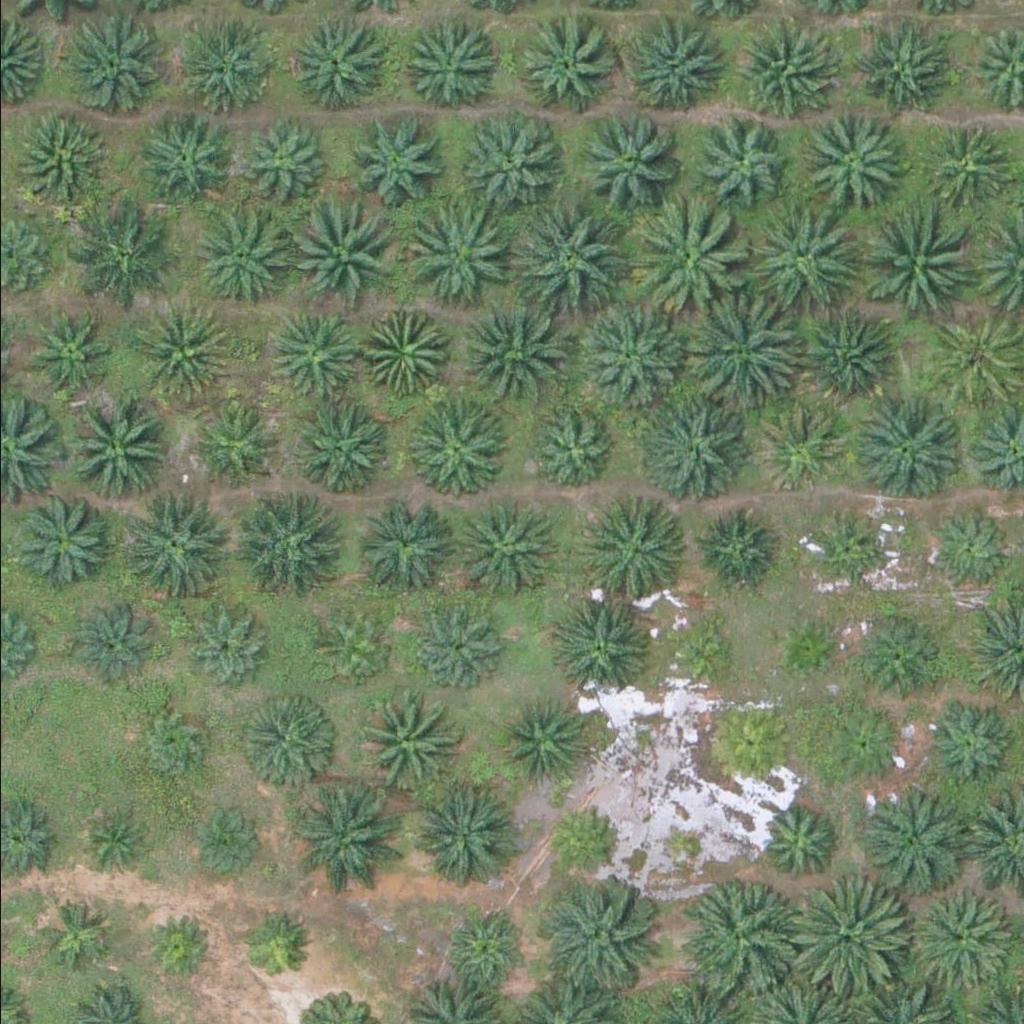Kelapa_Sawit: (742, 198, 856, 311), (71, 203, 184, 316), (396, 203, 509, 316), (512, 202, 625, 315), (686, 884, 799, 997), (538, 881, 651, 994), (574, 303, 688, 415), (57, 398, 171, 510), (796, 879, 910, 991), (867, 209, 981, 321), (182, 202, 295, 314), (292, 197, 405, 309), (629, 200, 742, 312), (681, 290, 794, 402), (460, 295, 573, 407), (640, 393, 753, 505), (229, 484, 342, 596), (115, 485, 228, 597), (289, 786, 402, 898), (850, 392, 963, 504), (858, 783, 971, 895), (5, 492, 106, 592), (9, 106, 110, 206), (61, 16, 162, 116), (285, 15, 386, 115), (514, 17, 615, 117), (738, 18, 839, 118), (687, 115, 788, 215), (577, 113, 678, 213), (341, 108, 442, 208), (129, 111, 230, 211), (130, 301, 231, 401), (286, 400, 387, 500), (410, 399, 511, 499), (446, 501, 547, 601), (355, 499, 456, 599), (548, 592, 649, 692), (355, 691, 456, 791), (416, 788, 517, 888), (908, 890, 1009, 990), (850, 20, 951, 120), (175, 23, 275, 123), (399, 18, 499, 118), (628, 25, 728, 125), (797, 109, 897, 209), (460, 112, 560, 212), (793, 305, 893, 405), (585, 498, 685, 598), (237, 692, 337, 792), (706, 699, 795, 787), (437, 905, 525, 993), (820, 699, 908, 787), (273, 312, 361, 400), (22, 308, 110, 396), (198, 406, 286, 494), (65, 599, 153, 687), (183, 606, 271, 694), (922, 504, 1010, 592), (924, 120, 1012, 208), (923, 701, 1012, 788), (757, 407, 845, 494), (240, 118, 328, 205), (365, 310, 453, 397), (523, 411, 611, 498), (693, 506, 781, 593), (416, 604, 504, 691), (496, 698, 584, 785), (752, 795, 840, 882), (850, 610, 938, 697), (547, 802, 623, 877), (185, 805, 261, 880), (73, 803, 149, 878), (770, 610, 846, 685), (662, 614, 738, 689), (800, 516, 875, 591), (236, 910, 311, 985), (315, 611, 390, 686), (36, 895, 111, 970), (131, 709, 206, 784), (140, 910, 215, 985)
